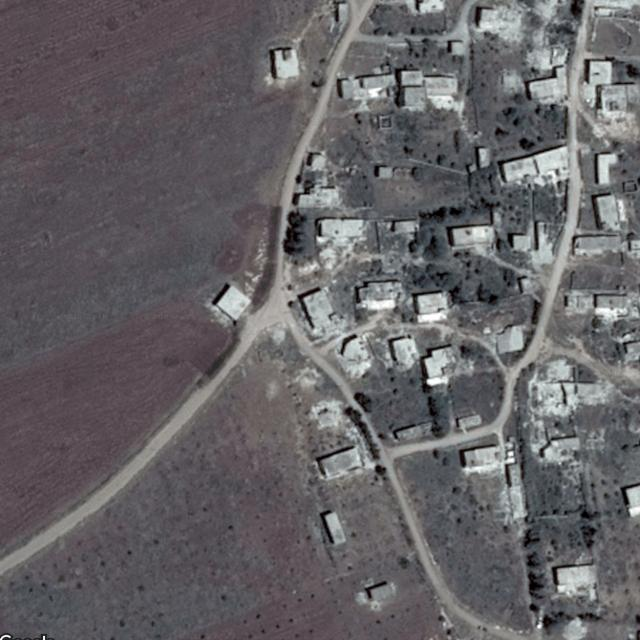damaged_building: (520, 354, 608, 452), (314, 215, 367, 275), (473, 5, 528, 40), (305, 397, 353, 434), (333, 334, 373, 375), (521, 43, 569, 69), (561, 616, 593, 640)
